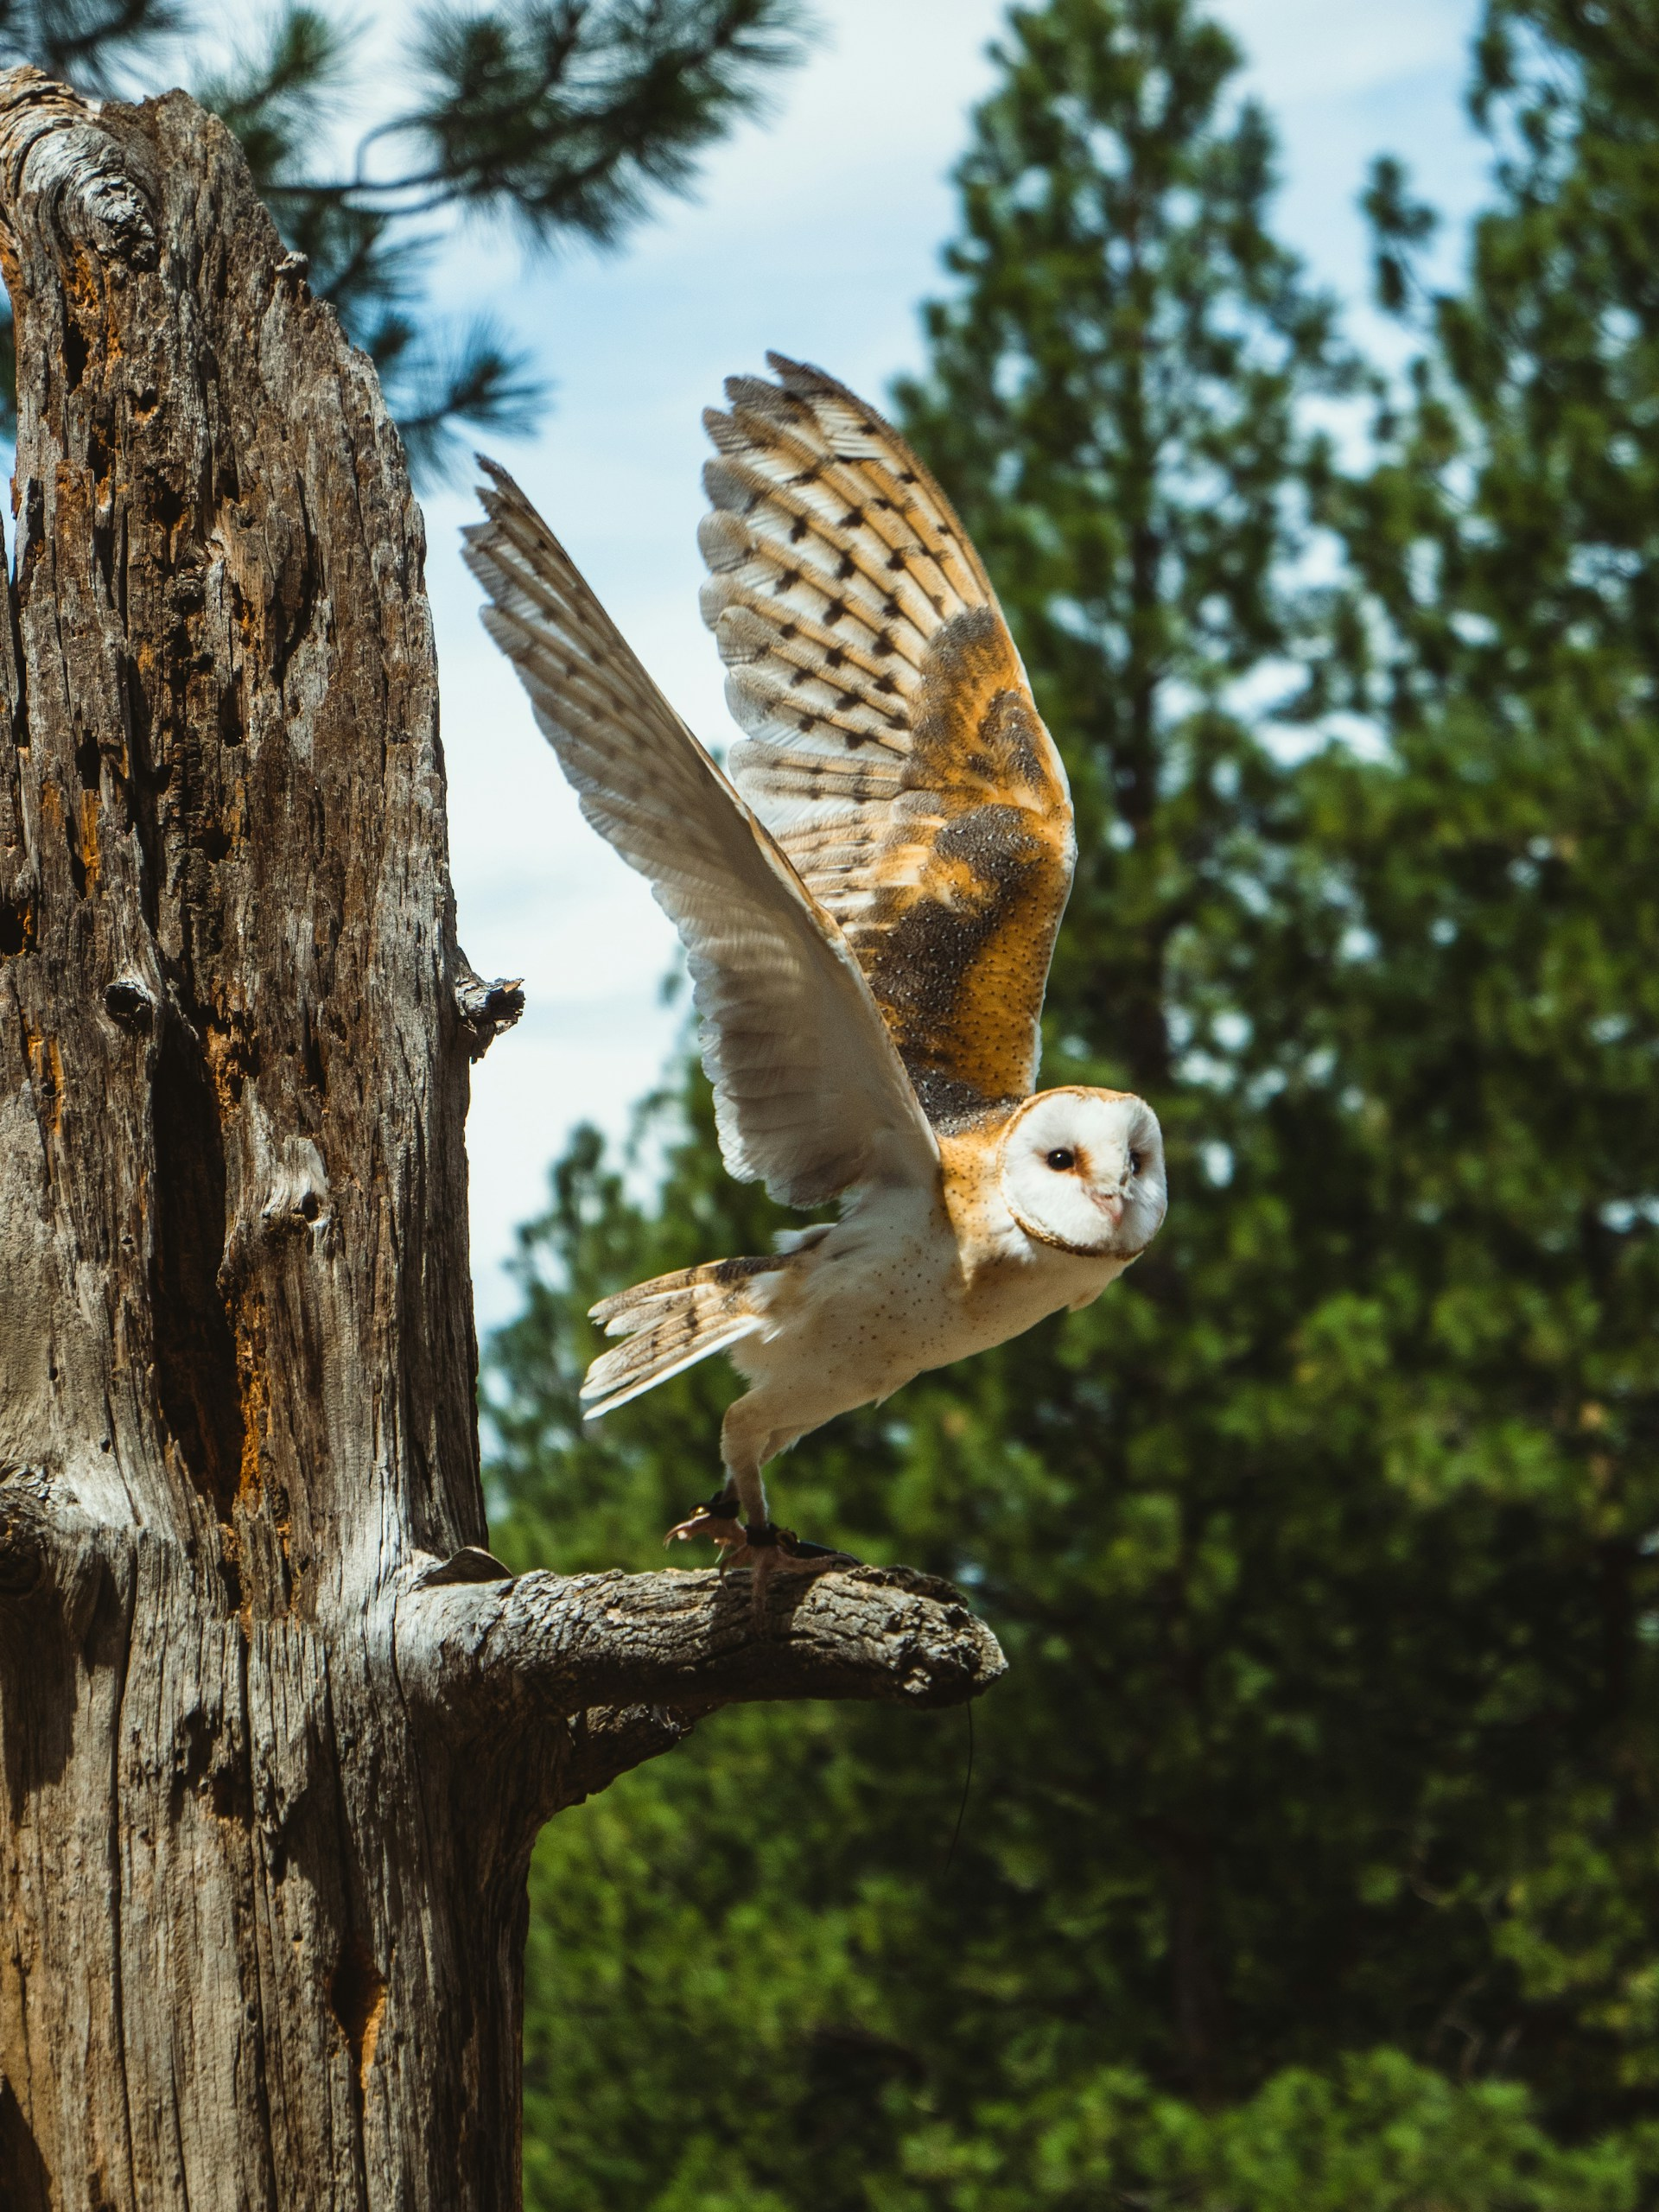owl: (382, 319, 1265, 1590)
